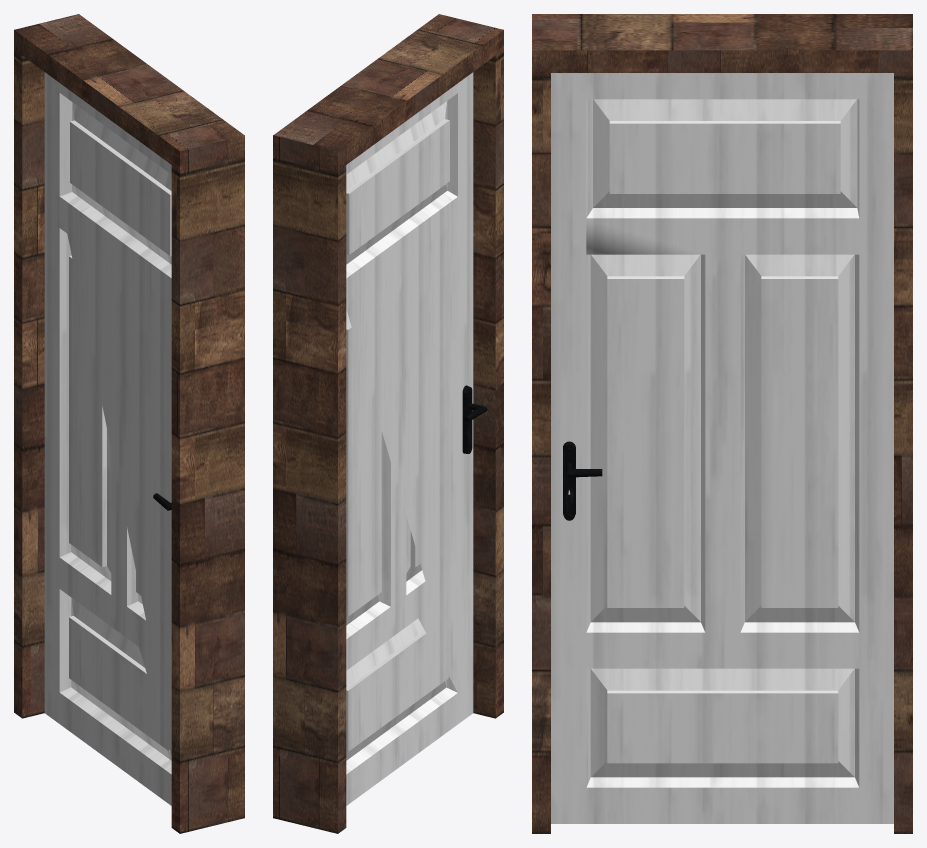
The model's file is Cua_phong.obj.
3 views of the same model, side by side, from view 1: azimuth 30°, elevation 25°; view 2: azimuth 150°, elevation 25°; view 3: azimuth 270°, elevation 25° (orthographic). The views are drawn at different scales.
Visible parts, largest first — view 1: 3d-model; view 2: 3d-model; view 3: 3d-model.
Boxes of the visible parts, x1,y1,x2,y2 form: 3d-model: [14, 14, 244, 833]; 3d-model: [273, 14, 503, 833]; 3d-model: [532, 14, 912, 833].
Bounding box in the file's own units: 16.41 × 158 × 69.74.
